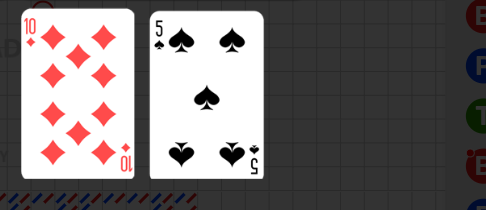10D: (24, 17, 37, 49)
5S: (248, 143, 260, 176)
